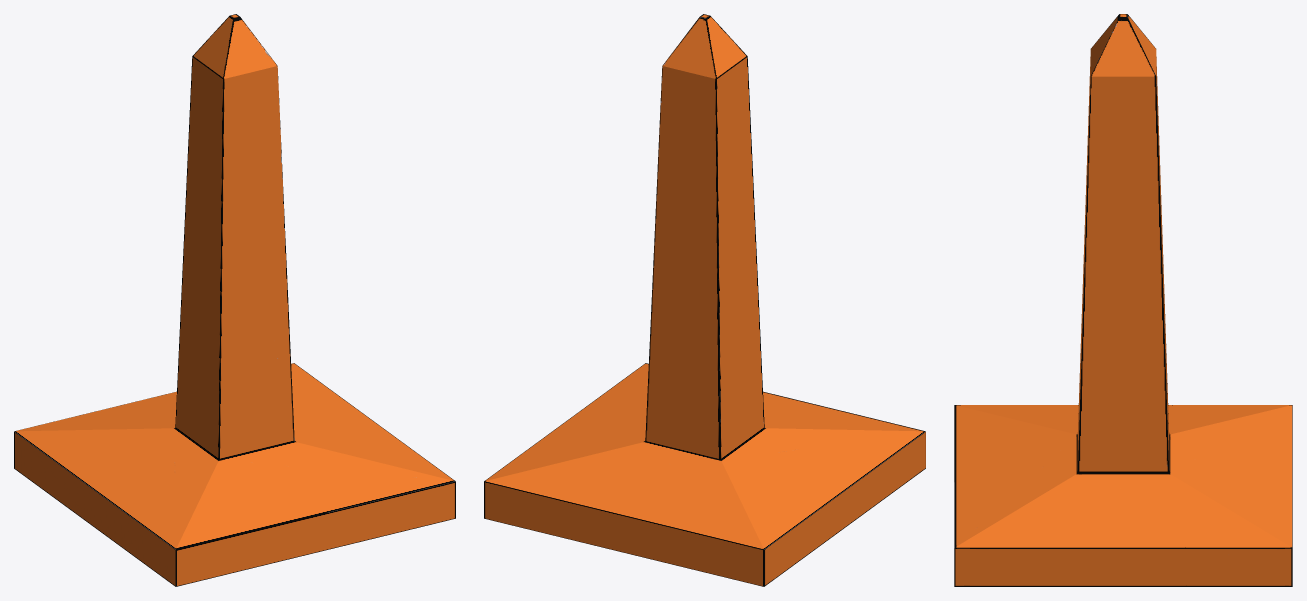
The model's file is fanBase.obj.
The picture shows the model from 3 angles, left to right: view 1: azimuth 30°, elevation 25°; view 2: azimuth 150°, elevation 25°; view 3: azimuth 270°, elevation 25°; orthographic projection. The views are drawn at different scales.
Parts seen in each view (by area): view 1: Plane.001; view 2: Plane.001; view 3: Plane.001.
Part boxes in pixels (box(x1,y1,x2,y2)): Plane.001: box(14, 14, 455, 586); Plane.001: box(484, 14, 925, 586); Plane.001: box(954, 14, 1292, 586).
Bounding box in the file's own units: 2 × 3.26 × 2.
